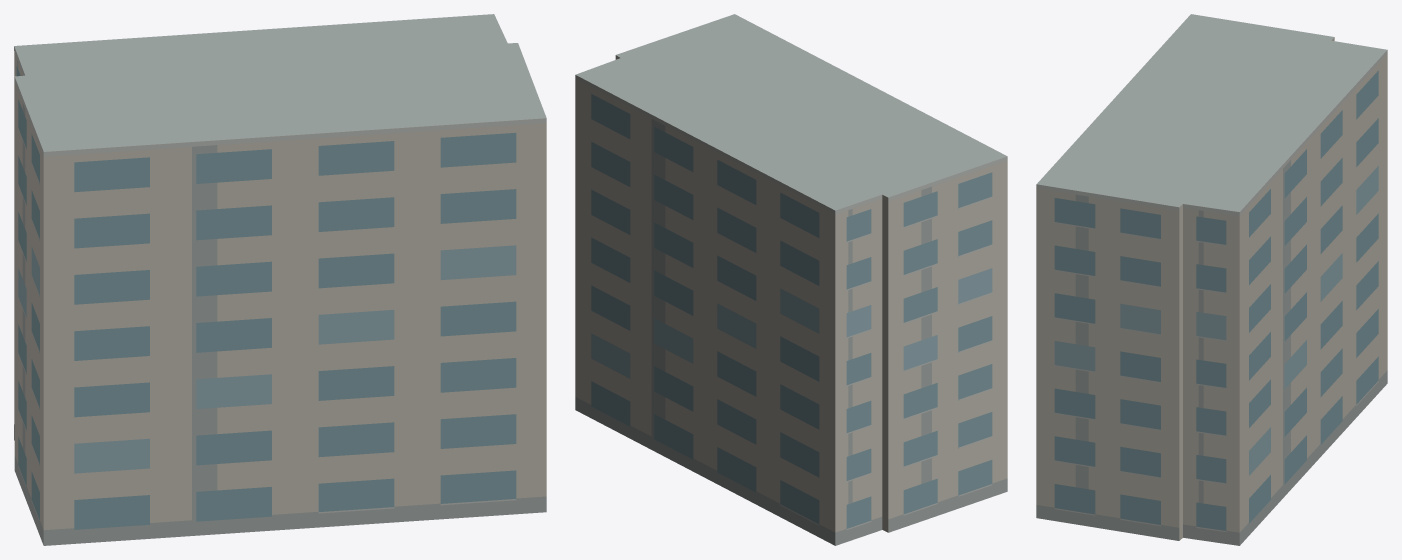
Rendered from survey-upis-32985567.glb.
The picture shows the model from 3 angles, left to right: view 1: azimuth 30°, elevation 25°; view 2: azimuth 150°, elevation 25°; view 3: azimuth 270°, elevation 25°; orthographic projection. The views are drawn at different scales.
Visible parts, largest first — view 1: survey-upis-32985567.tmp; view 2: survey-upis-32985567.tmp; view 3: survey-upis-32985567.tmp.
Boxes of the visible parts, left/top/right/bottom form: survey-upis-32985567.tmp: left=14, top=14, right=546, bottom=545; survey-upis-32985567.tmp: left=575, top=14, right=1007, bottom=545; survey-upis-32985567.tmp: left=1036, top=14, right=1387, bottom=545.
Bounding box in the file's own units: 25.85 × 20.3 × 19.36.
